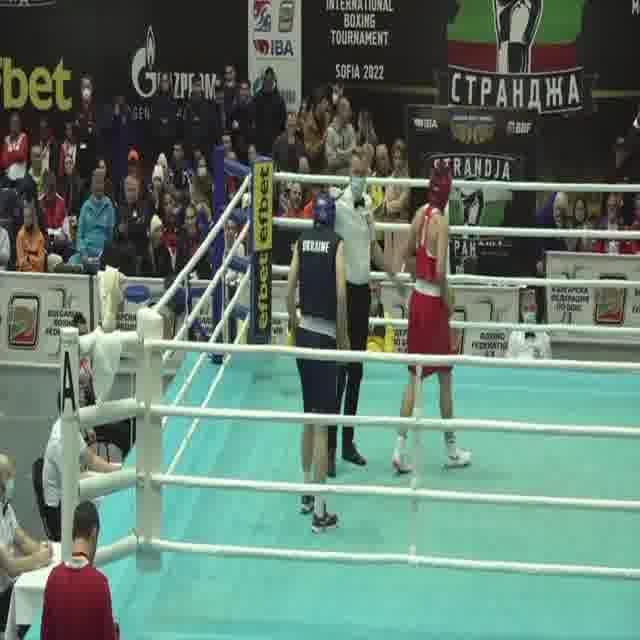blue-player: (282, 186, 350, 536)
red-player: (390, 156, 474, 475)
referee: (314, 143, 413, 482)
